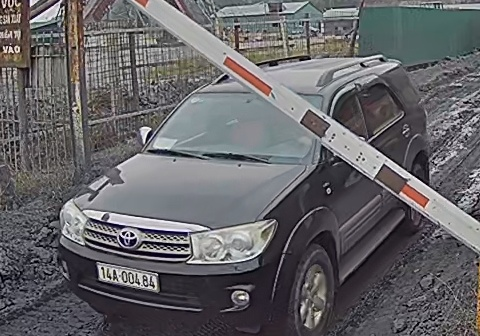vehicle plate: (93, 260, 160, 293)
